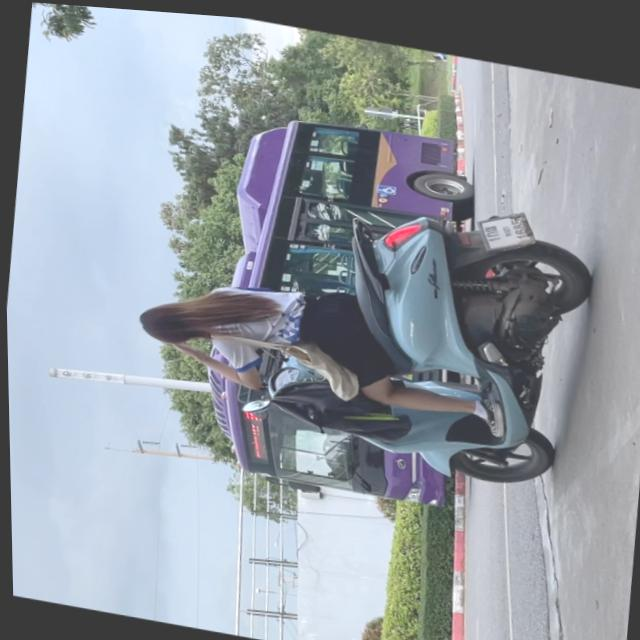seatbelt: (133, 292, 209, 347)
